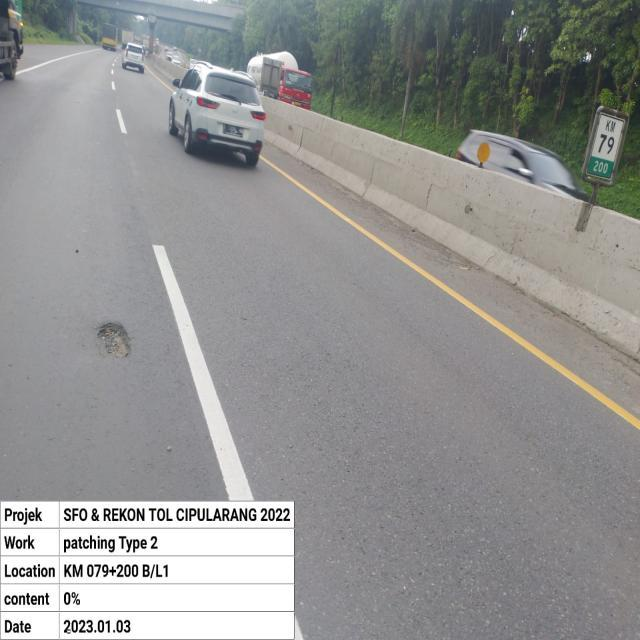Buraco: (94, 321, 136, 362)
